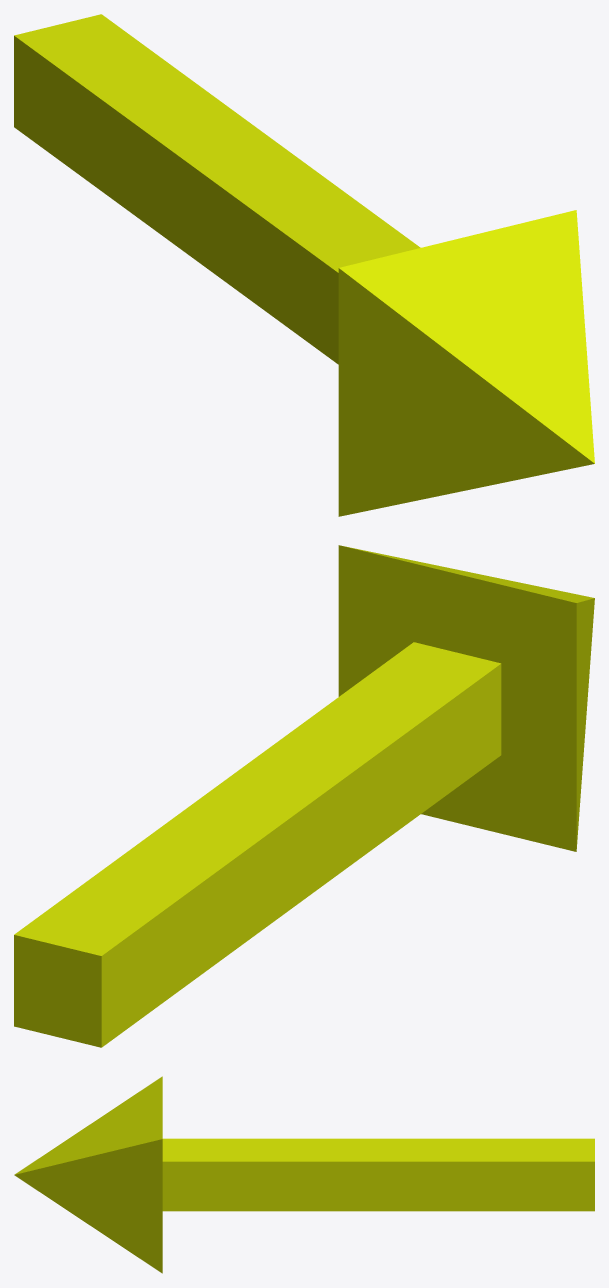
File: bullet.gltf
The picture shows the model from 3 angles, top to bottom: view 1: azimuth 30°, elevation 25°; view 2: azimuth 150°, elevation 25°; view 3: azimuth 270°, elevation 25°; orthographic projection. The views are drawn at different scales.
Parts seen in each view (by area): view 1: Cube; view 2: Cube; view 3: Cube.
Part boxes in pixels (x1=…): Cube: x1=14, y1=14, x2=594, y2=516; Cube: x1=14, y1=545, x2=594, y2=1047; Cube: x1=14, y1=1076, x2=594, y2=1273.
Size of the model in its own units: 0.3542 by 0.3542 by 1.39.
